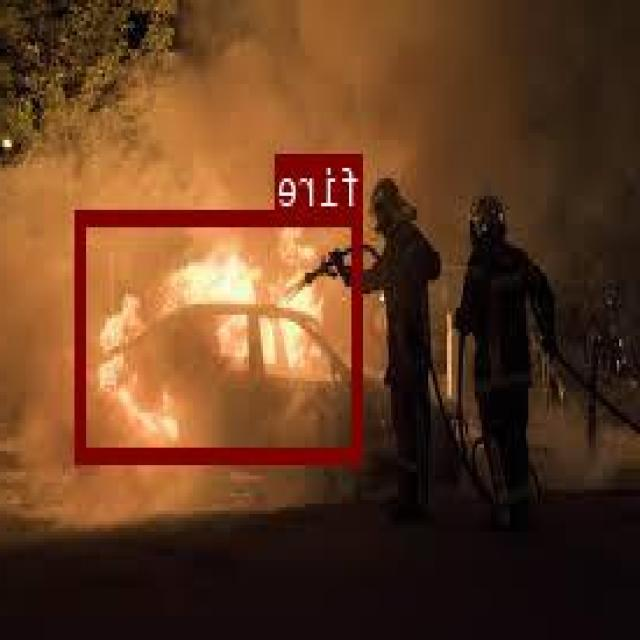fire: (78, 209, 364, 458)
